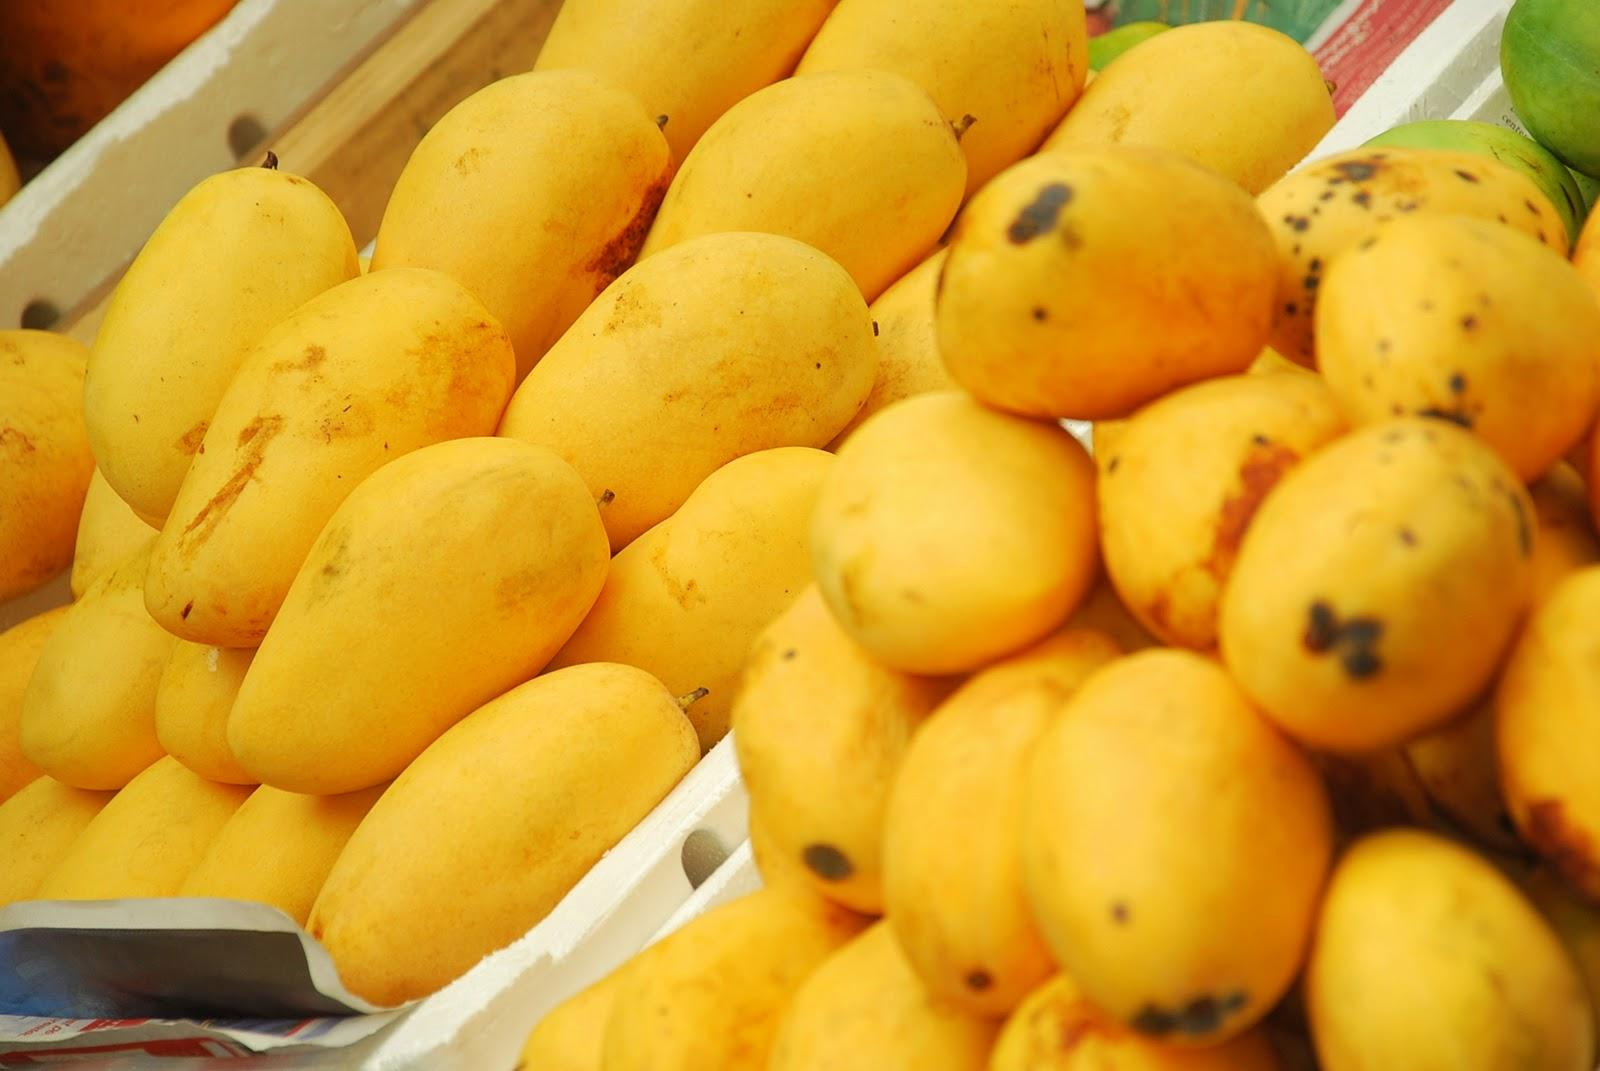mango: (1007, 635, 1336, 1030), (190, 430, 581, 757), (723, 637, 1028, 1051), (1227, 375, 1580, 721), (362, 662, 710, 1008), (918, 155, 1328, 416), (503, 247, 902, 514), (195, 284, 492, 631), (0, 320, 195, 743), (805, 398, 1117, 657), (370, 55, 673, 301), (1345, 147, 1582, 458), (125, 133, 306, 537), (717, 18, 983, 283), (1080, 12, 1336, 195)
